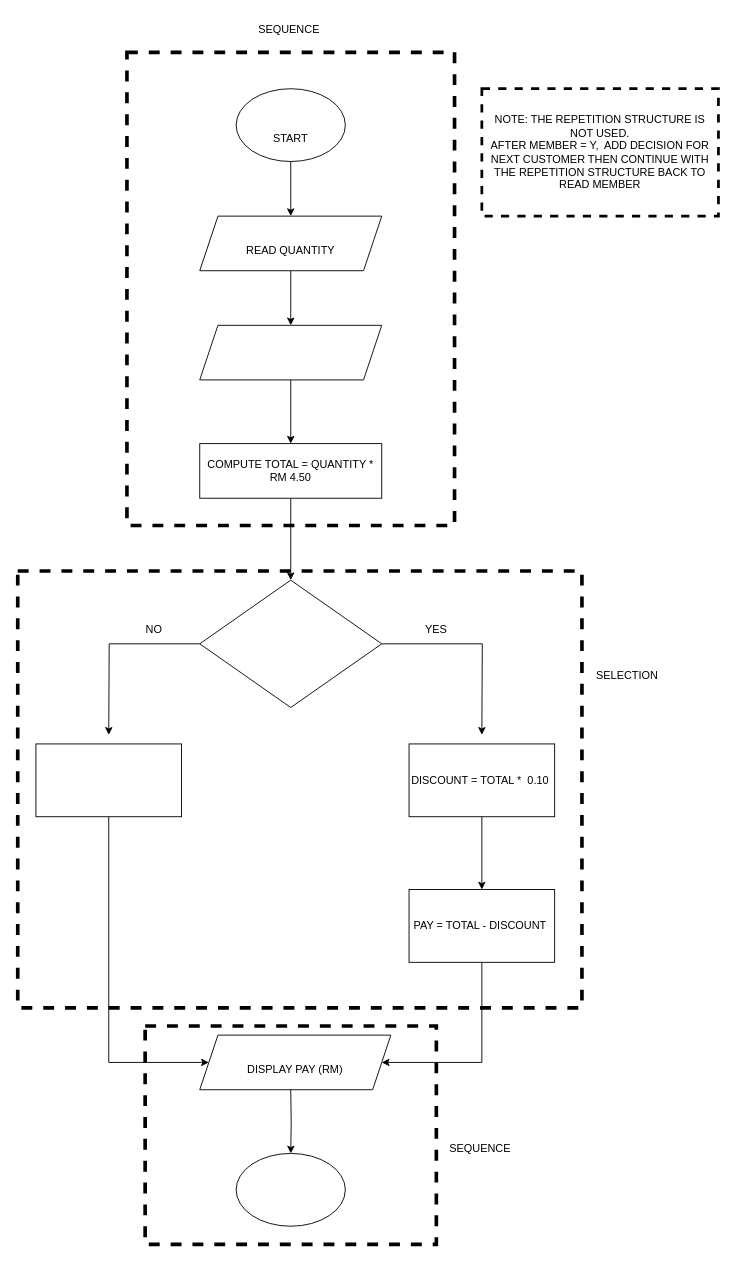
This 735x1261 diagram has some shape labels left out. The shapes that lost their labels are listed below. From the top down, each one's centre as x and y in pixels, then its label:
[290,352]: READ MEMBER
[290,643]: MEMBER = Y?
[108,780]: PAY = TOTAL
[290,1189]: STOP
